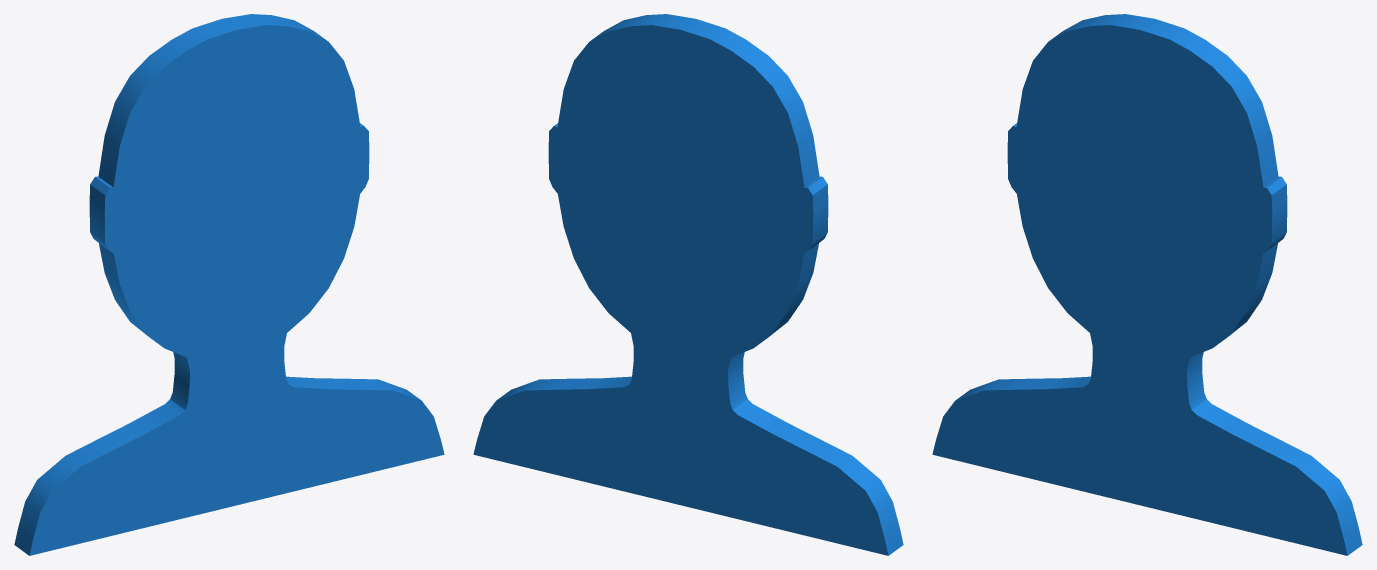
File: bust_in_silhouette.glb
3 views of the same model, side by side, from view 1: azimuth 30°, elevation 25°; view 2: azimuth 150°, elevation 25°; view 3: azimuth 330°, elevation 25° (orthographic).
Visible parts, largest first — view 1: Circle.1775; view 2: Circle.1775; view 3: Circle.1775.
Boxes of the visible parts, x1,y1,x2,y2 form: Circle.1775: (14,14,444,555); Circle.1775: (473,14,903,555); Circle.1775: (932,14,1362,555).
Size of the model in its own units: 1.59 by 1.74 by 0.1.
1 material, 1 textured.
